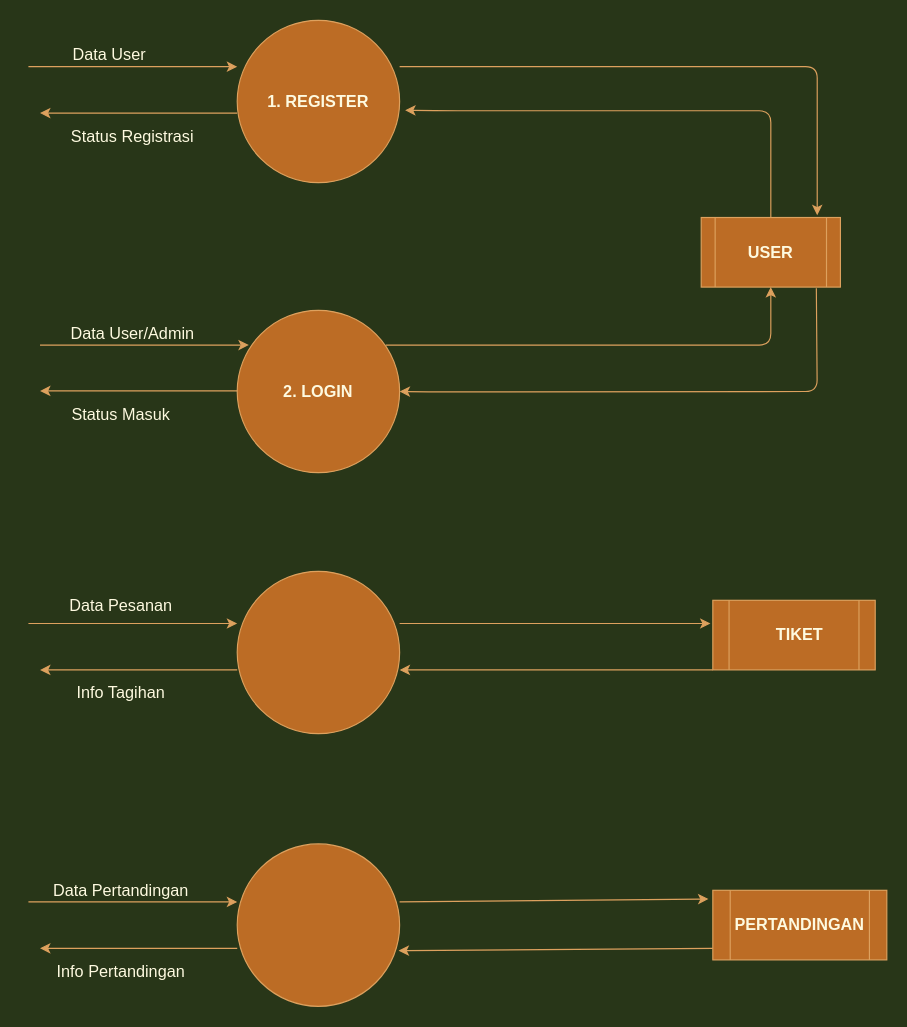
This 907x1027 diagram has some shape labels left out. The centre of each missing label's shape, as x and y in pixels:
3. PESAN TIKET: point (318, 652)
4. MENGELOLA PERTANDINGAN: point (318, 924)
